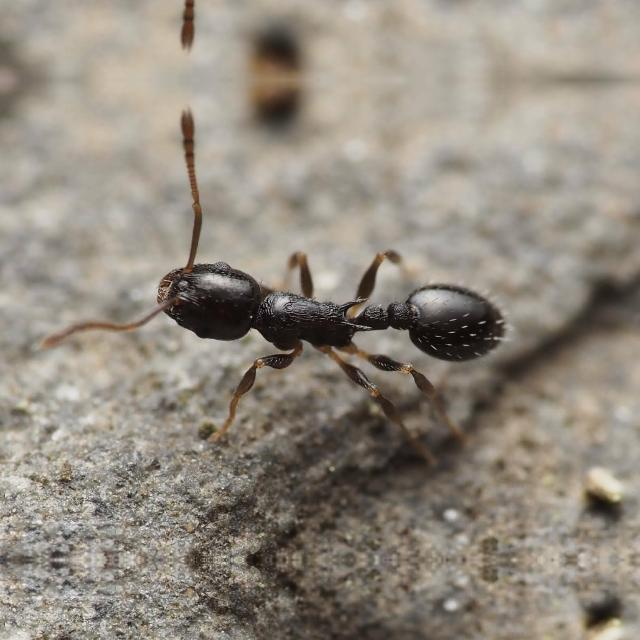Temnothorax: (97, 150, 530, 466)
